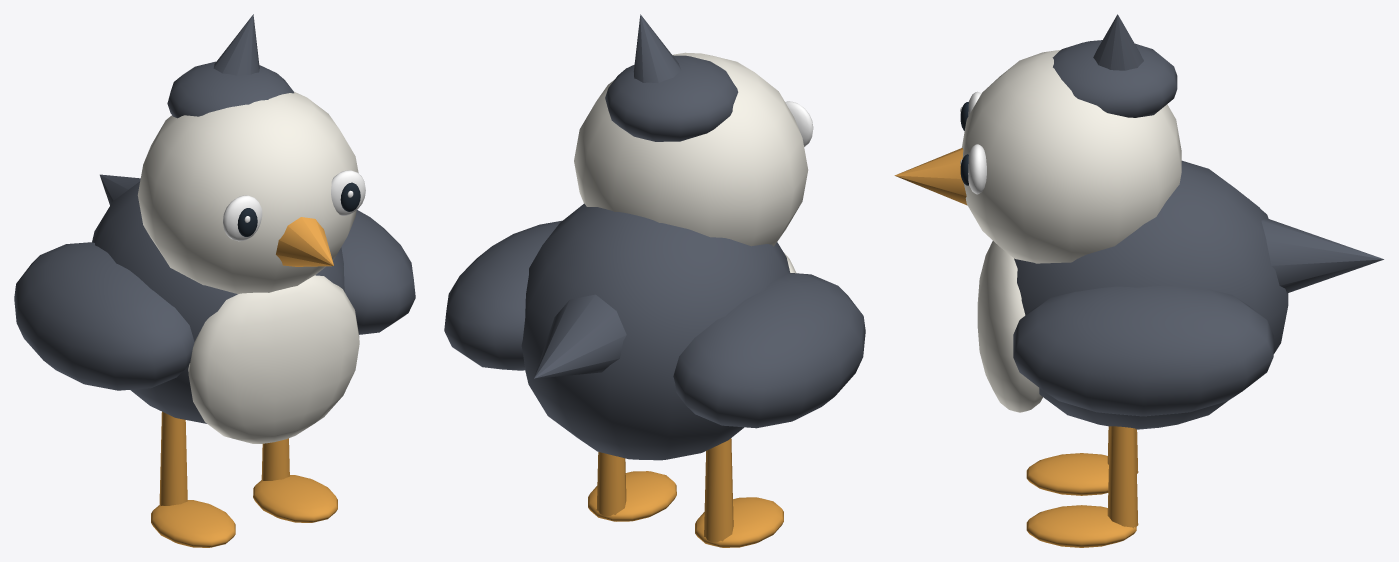
3 views of the same model, side by side, from view 1: azimuth 30°, elevation 25°; view 2: azimuth 150°, elevation 25°; view 3: azimuth 270°, elevation 25° (orthographic). The views are drawn at different scales.
Parts seen in each view (by area): view 1: creature_1008; view 2: creature_1008; view 3: creature_1008.
Part boxes in pixels (box(x1,y1,x2,y2)): creature_1008: box(14, 14, 415, 547); creature_1008: box(444, 14, 865, 547); creature_1008: box(894, 14, 1383, 547).
Size of the model in its own units: 0.8351 by 1.1 by 0.955.
